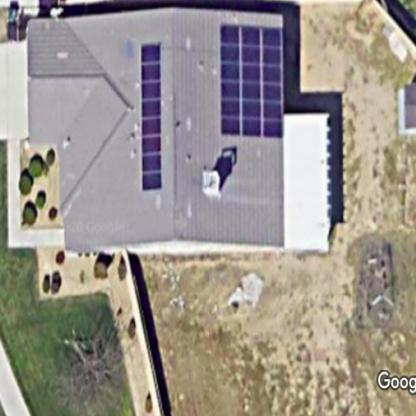solar_panel: (219, 11, 287, 149)
swimming_pool: (135, 34, 174, 198)
